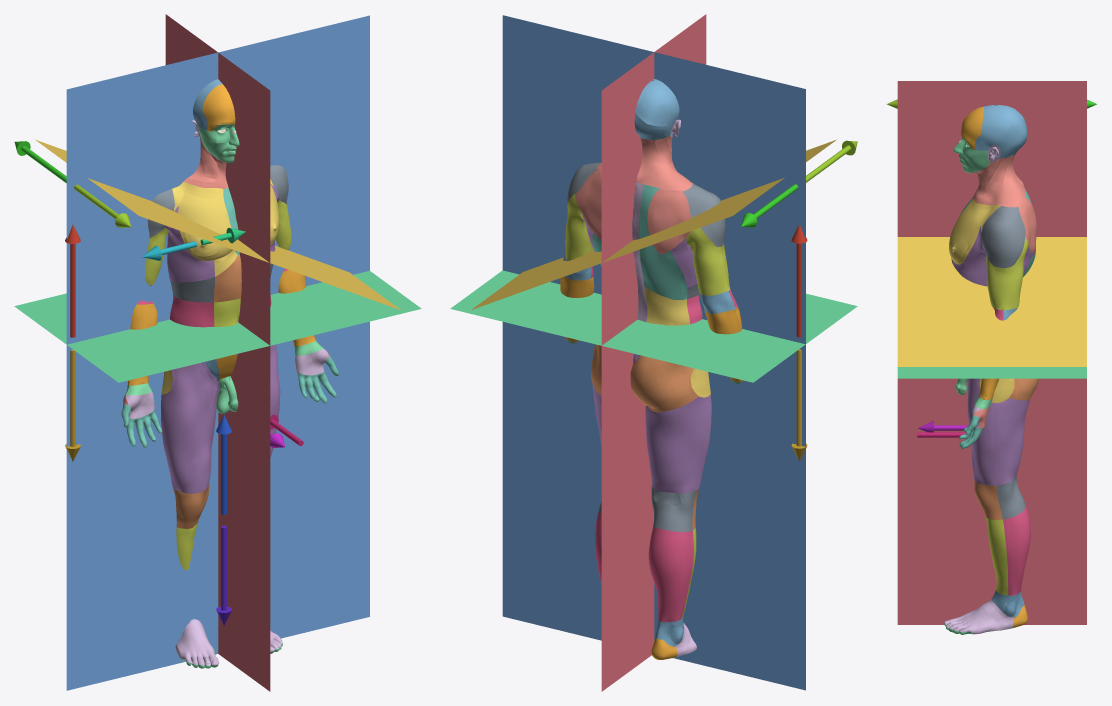
The model's file is overview-regions.glb.
3 views of the same model, side by side, from view 1: azimuth 30°, elevation 25°; view 2: azimuth 150°, elevation 25°; view 3: azimuth 270°, elevation 25° (orthographic). The views are drawn at different scales.
Visible parts, largest first — view 1: Planes::frontal, Planes::sagittal, Planes::transverse, Anterior region of thigh.r, Planes::oblique, Pectoral region.r, Lateral region of thorax.r, Lateral region of abdomen.r, Frontal region.r, Anterior region of knee.r, Epigastric region.r, Hypochondriac region.r (+14 smaller); view 2: Planes::frontal, Planes::sagittal, Planes::transverse, Posterior region of thigh.r, Planes::oblique, Posterior region of leg.r, Gluteal region.r, Scapular region.r, Infrascapular region.r, Posterior region of arm.r, Posterior region of neck.r, Parietal region.r (+10 smaller); view 3: Planes::sagittal, Planes::oblique, Posterior region of thigh.l, Planes::transverse, Deltoid region.l, Anterior region of thigh.l, Posterior region of leg.l, Parietal region.l, Anterior region of leg.l, Lateral region of thorax.l, Pectoral region.l, Posterior region of arm.l (+14 smaller).
Boxes of the visible parts, x1,y1,x2,y2 form: Planes::frontal: [66, 15, 369, 690]; Planes::sagittal: [165, 14, 270, 691]; Planes::transverse: [14, 270, 421, 382]; Anterior region of thigh.r: [161, 362, 219, 493]; Planes::oblique: [35, 139, 400, 309]; Pectoral region.r: [178, 192, 232, 260]; Lateral region of thorax.r: [165, 206, 214, 282]; Lateral region of abdomen.r: [170, 295, 214, 327]; Frontal region.r: [202, 84, 235, 131]; Anterior region of knee.r: [173, 483, 209, 528]; Epigastric region.r: [214, 255, 241, 302]; Hypochondriac region.r: [170, 277, 214, 302]; Planes::frontal: [502, 15, 805, 690]; Planes::sagittal: [601, 14, 706, 691]; Planes::transverse: [450, 270, 857, 382]; Posterior region of thigh.r: [645, 395, 710, 493]; Planes::oblique: [471, 139, 836, 309]; Posterior region of leg.r: [648, 526, 693, 622]; Gluteal region.r: [630, 355, 698, 411]; Scapular region.r: [647, 189, 691, 254]; Infrascapular region.r: [640, 247, 687, 299]; Posterior region of arm.r: [686, 228, 728, 295]; Posterior region of neck.r: [636, 138, 692, 191]; Parietal region.r: [635, 79, 677, 126]; Planes::sagittal: [897, 81, 1086, 624]; Planes::oblique: [897, 237, 1086, 366]; Posterior region of thigh.l: [993, 398, 1029, 485]; Planes::transverse: [897, 367, 1086, 378]; Deltoid region.l: [981, 206, 1025, 268]; Anterior region of thigh.l: [967, 378, 996, 485]; Posterior region of leg.l: [1003, 506, 1030, 595]; Parietal region.l: [980, 105, 1026, 145]; Anterior region of leg.l: [985, 517, 1008, 595]; Lateral region of thorax.l: [952, 226, 1032, 286]; Pectoral region.l: [949, 205, 985, 264]; Posterior region of arm.l: [1003, 237, 1028, 310].
Size of the model in its own units: 0.9622 by 1.82 by 0.64.
